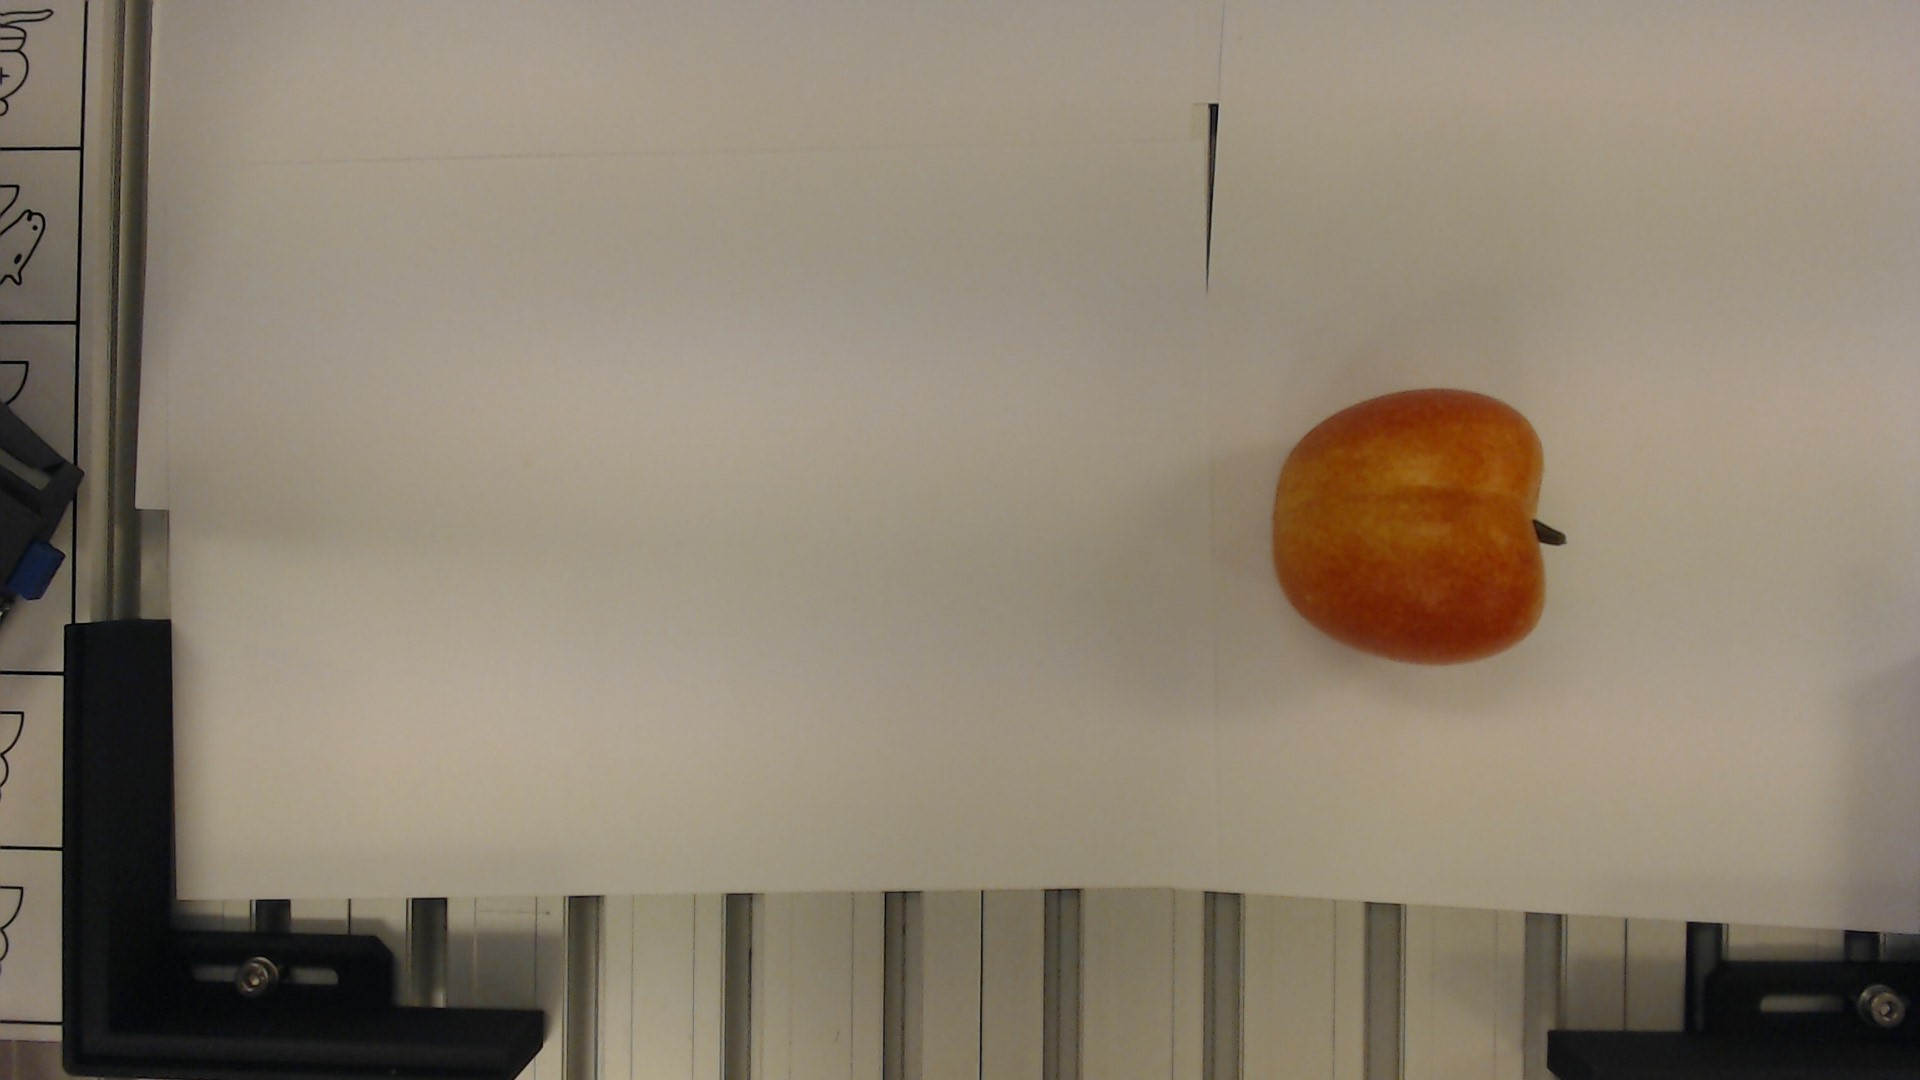Peach: (1274, 389, 1573, 676)
